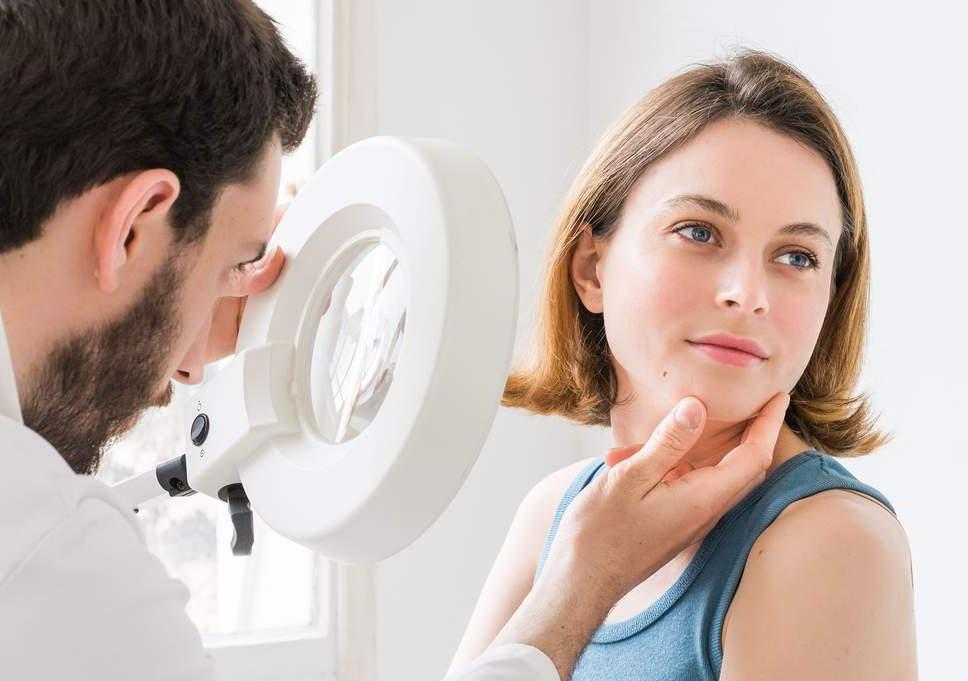Sober: (646, 153, 841, 398)
